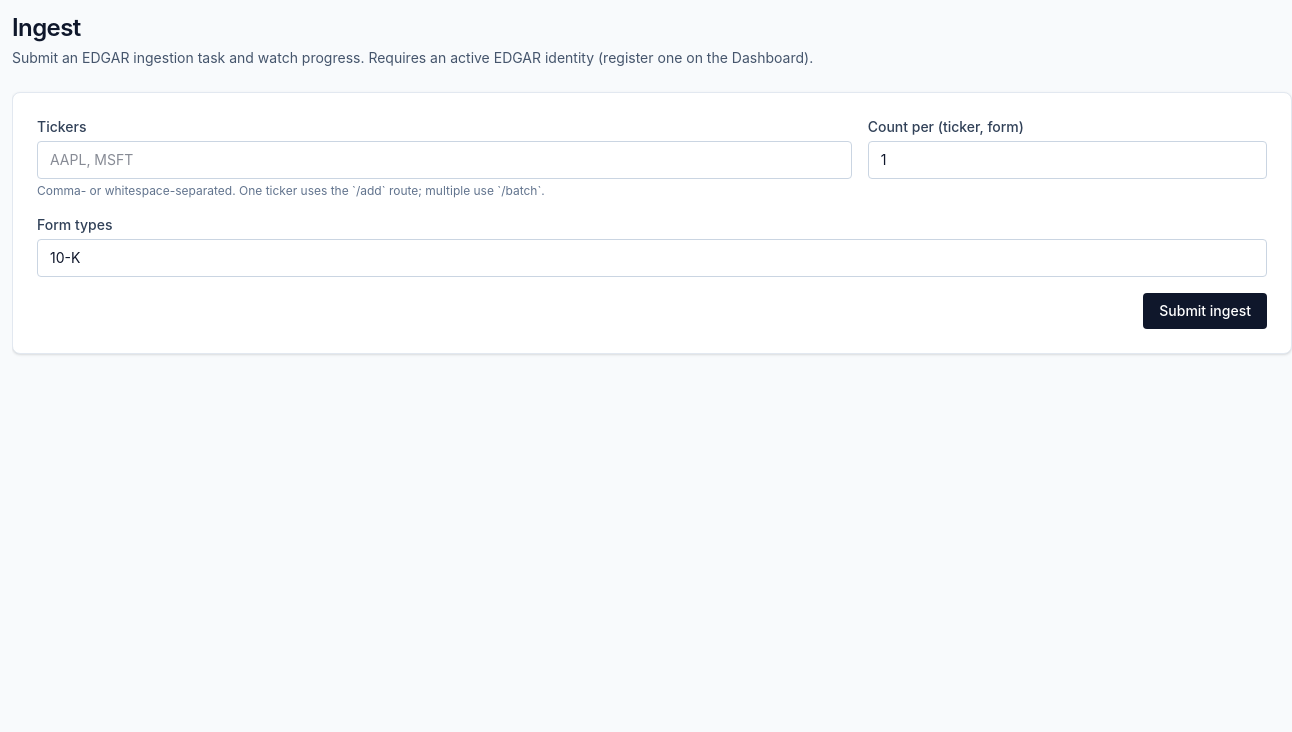
Scenario: Ingest — task-progress ARIA contract › the task progress card is wrapped in an aria-live=polite region
Type "AAPL" into the field labelled "Tickers" at {"x": 444, "y": 160}, box [37,141,852,179]
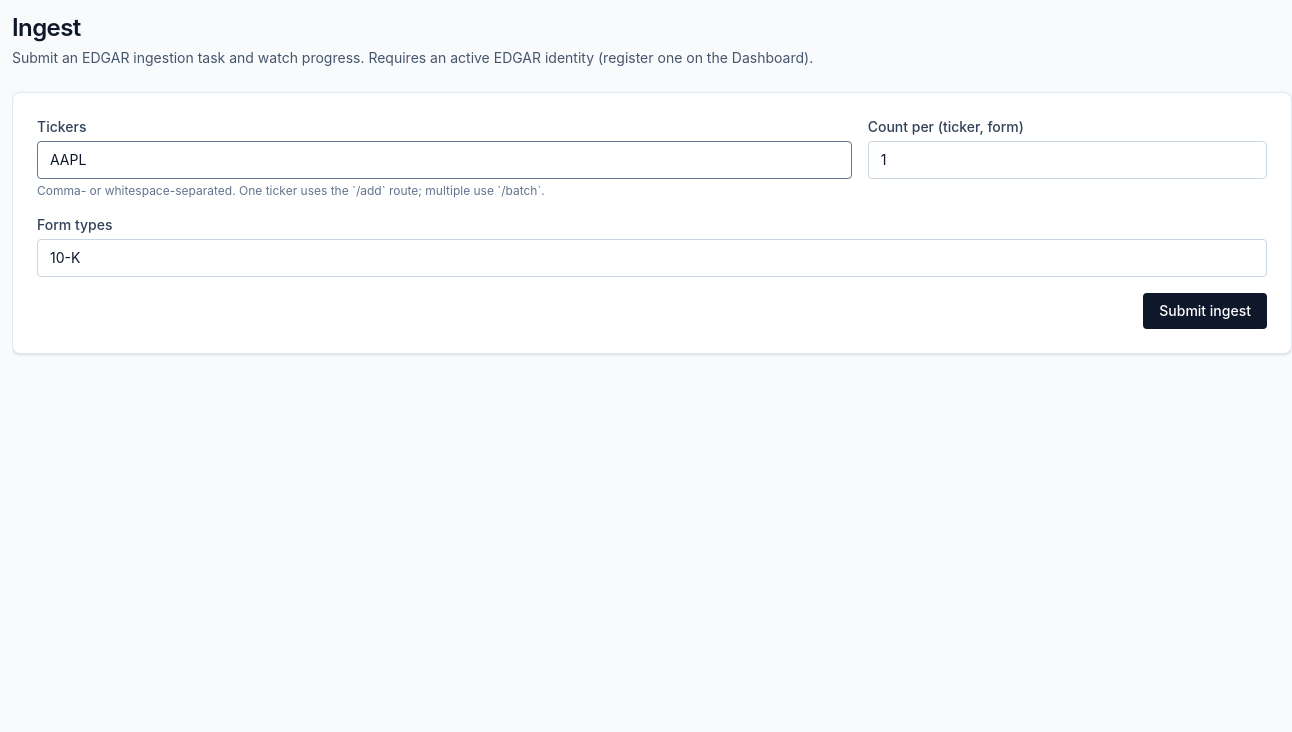
Click the button "Submit ingest" at {"x": 1205, "y": 311}, box [1143,293,1267,329]
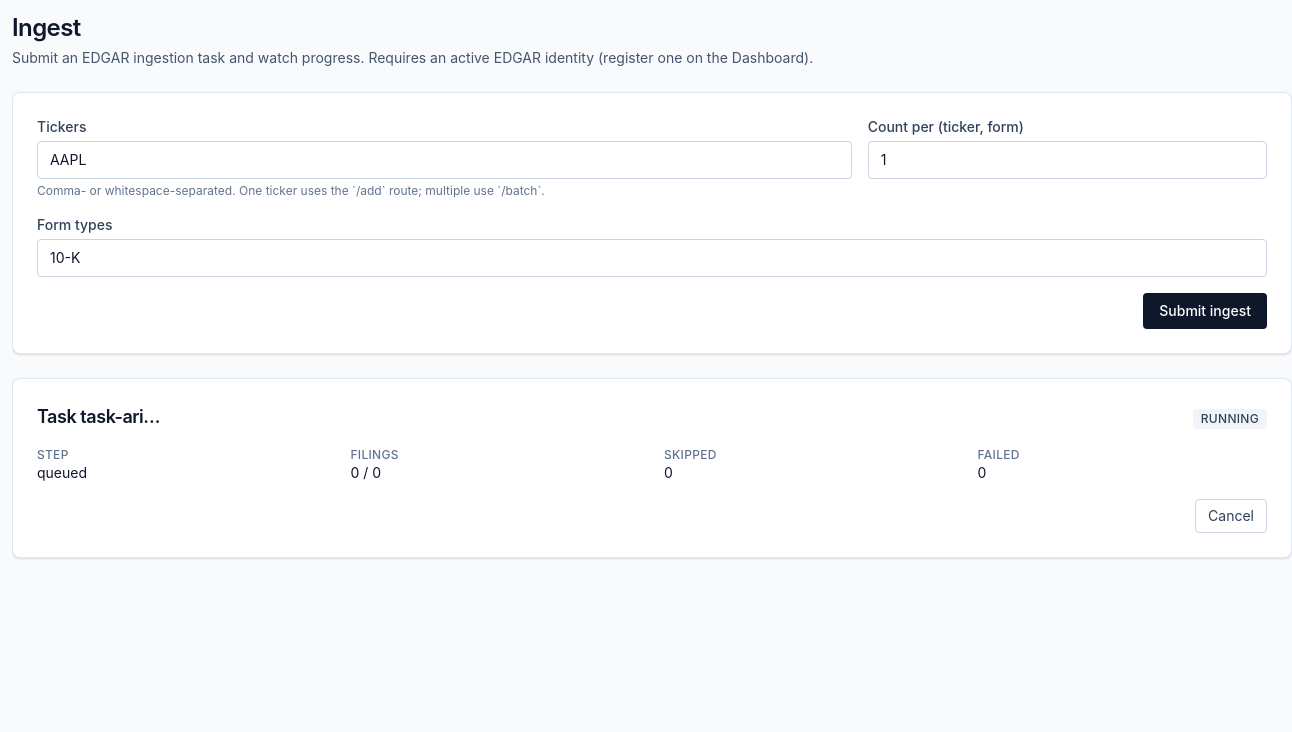
Check: the text "Task task-ari…" is shown, box [12,378,1291,558]
Check: the text named "Task status:" is shown, box [1193,409,1267,429]
